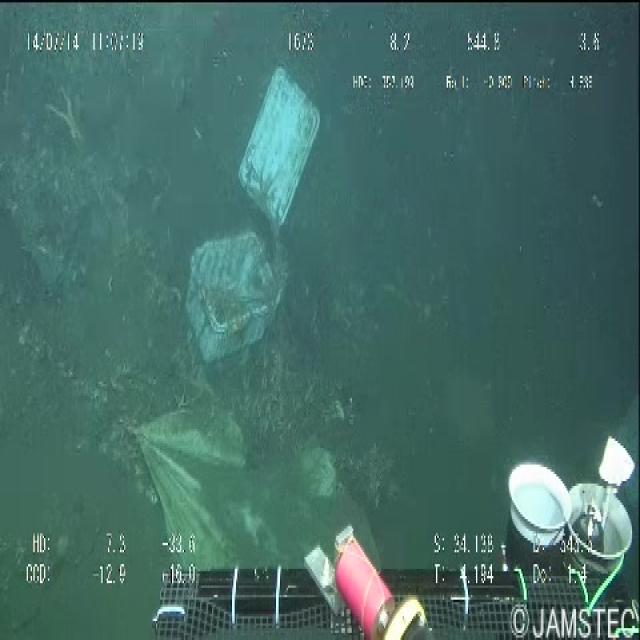plastic: (165, 57, 328, 372)
